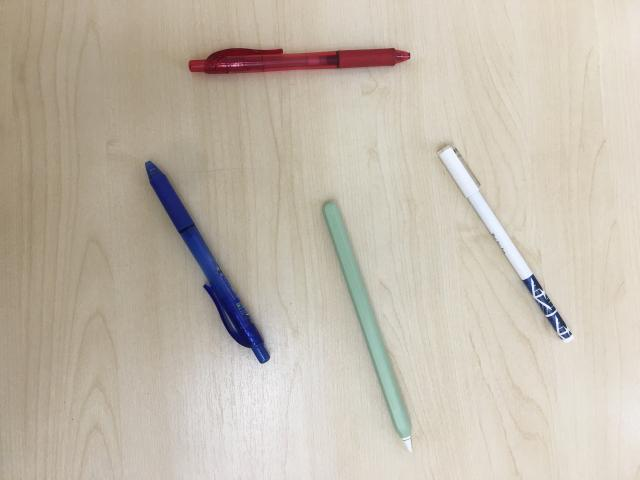Pen: (438, 147, 571, 342), (143, 163, 269, 365), (187, 48, 411, 76)
